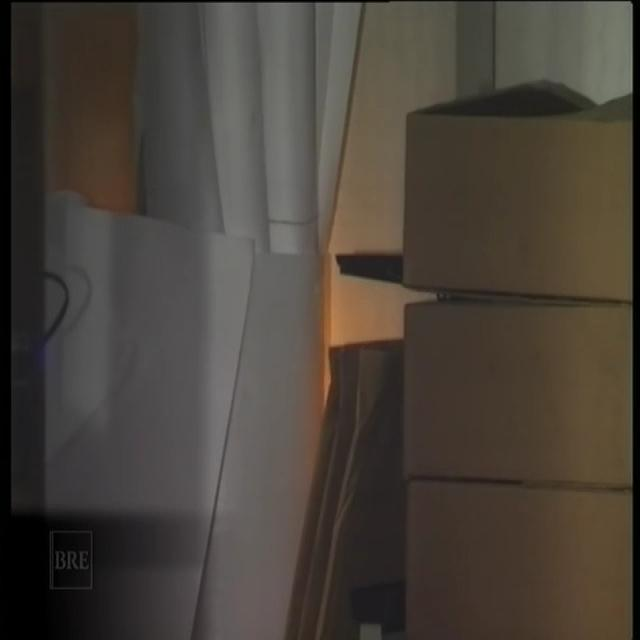Fire: (269, 200, 426, 440)
